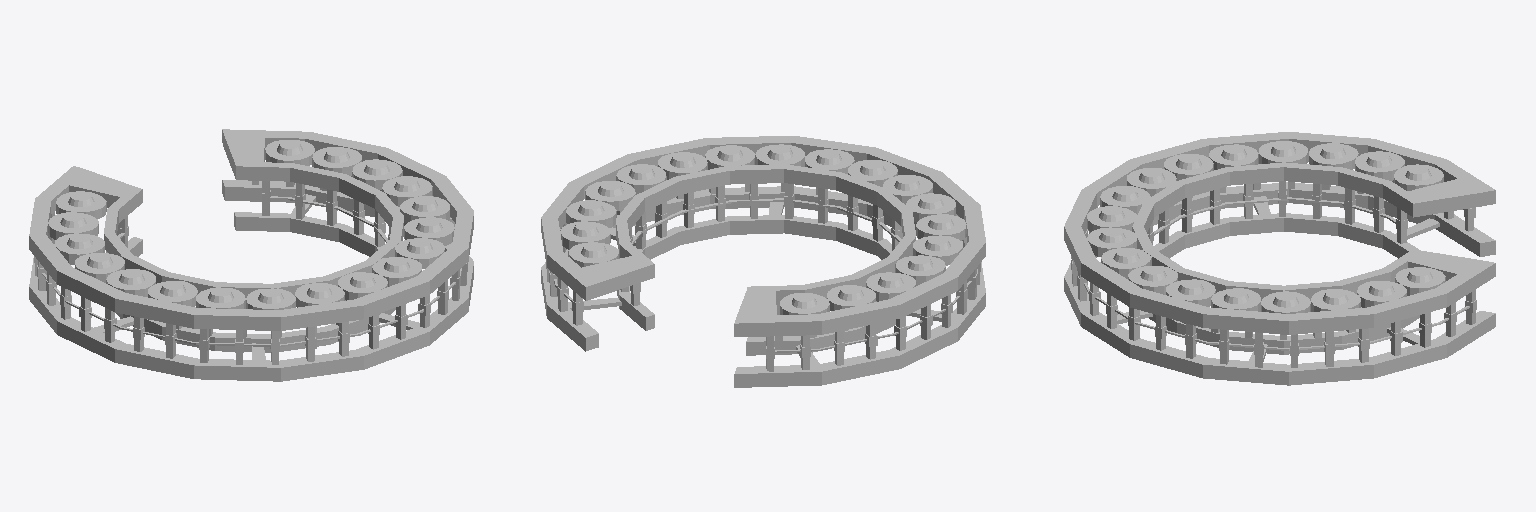
Rendered from NEW Khong wong yai.obj.
3 renders of one model, left to right at view 1: azimuth 30°, elevation 25°; view 2: azimuth 150°, elevation 25°; view 3: azimuth 270°, elevation 25°, orthographic.
Parts seen in each view (by area): view 1: Circle, Khong_, Cube, Cube.001, Rope, Cube.003; view 2: Circle, Khong_, Cube, Cube.001, Circle.002, Cube.003; view 3: Circle, Khong_, Cube, Cube.001, Cube.003, Rope, Circle.002.
Part boxes in pixels (x1,y1,x2,y2): Circle: (29, 129, 473, 381); Khong_: (48, 140, 454, 309); Cube: (34, 176, 467, 364); Cube.001: (106, 181, 390, 346); Rope: (42, 268, 461, 346); Cube.003: (70, 194, 419, 359); Circle: (541, 136, 985, 387); Khong_: (560, 144, 966, 314); Cube: (546, 183, 980, 371); Cube.001: (619, 183, 912, 340); Circle.002: (631, 199, 901, 244); Cube.003: (568, 198, 951, 364); Circle: (1064, 132, 1495, 385); Khong_: (1087, 141, 1445, 313); Cube: (1071, 180, 1476, 367); Cube.001: (1147, 181, 1407, 339); Cube.003: (1106, 196, 1439, 361); Rope: (1077, 209, 1469, 350); Circle.002: (1154, 197, 1395, 307).
Bounding box in the file's own units: 3.22 × 0.5502 × 3.09.